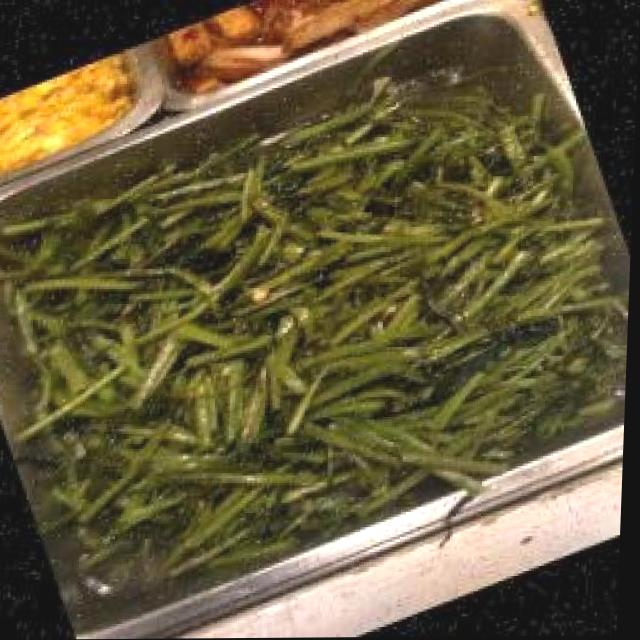water_spinach: (0, 18, 639, 620)
